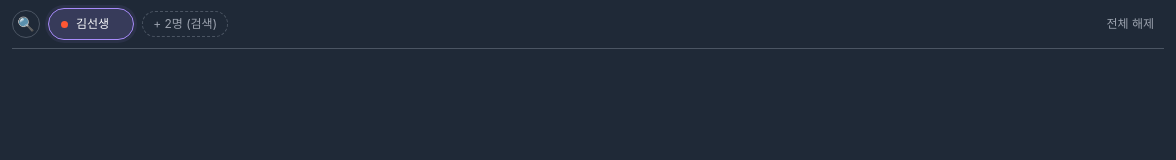
Test: TeacherFilterChipBar › variant=active-only (P3) › 검색어로 매칭 강사 추가 표시
This screenshot has width=1176, height=160.
Click the button named "강사 검색": (26, 24) 12,10 -> 40,38
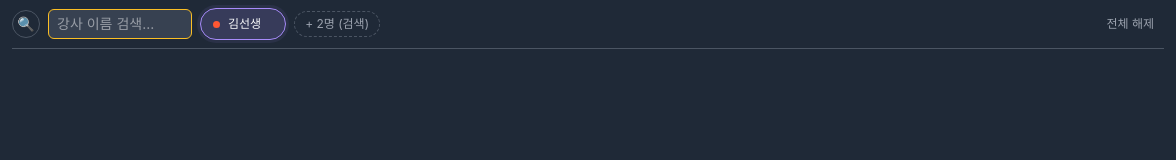
In the field with placeholder "강사 이름 검색...": (120, 24) 48,9 -> 192,39, type "이선"
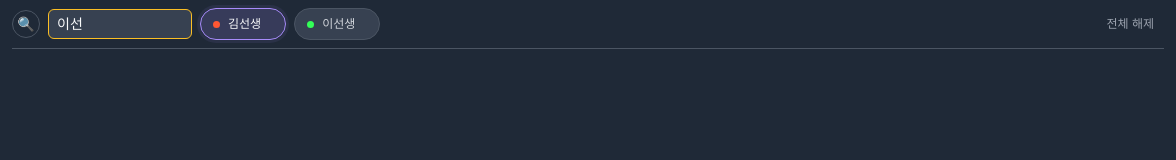
Expected: the text "이선생" is shown, 322,15 -> 355,33
